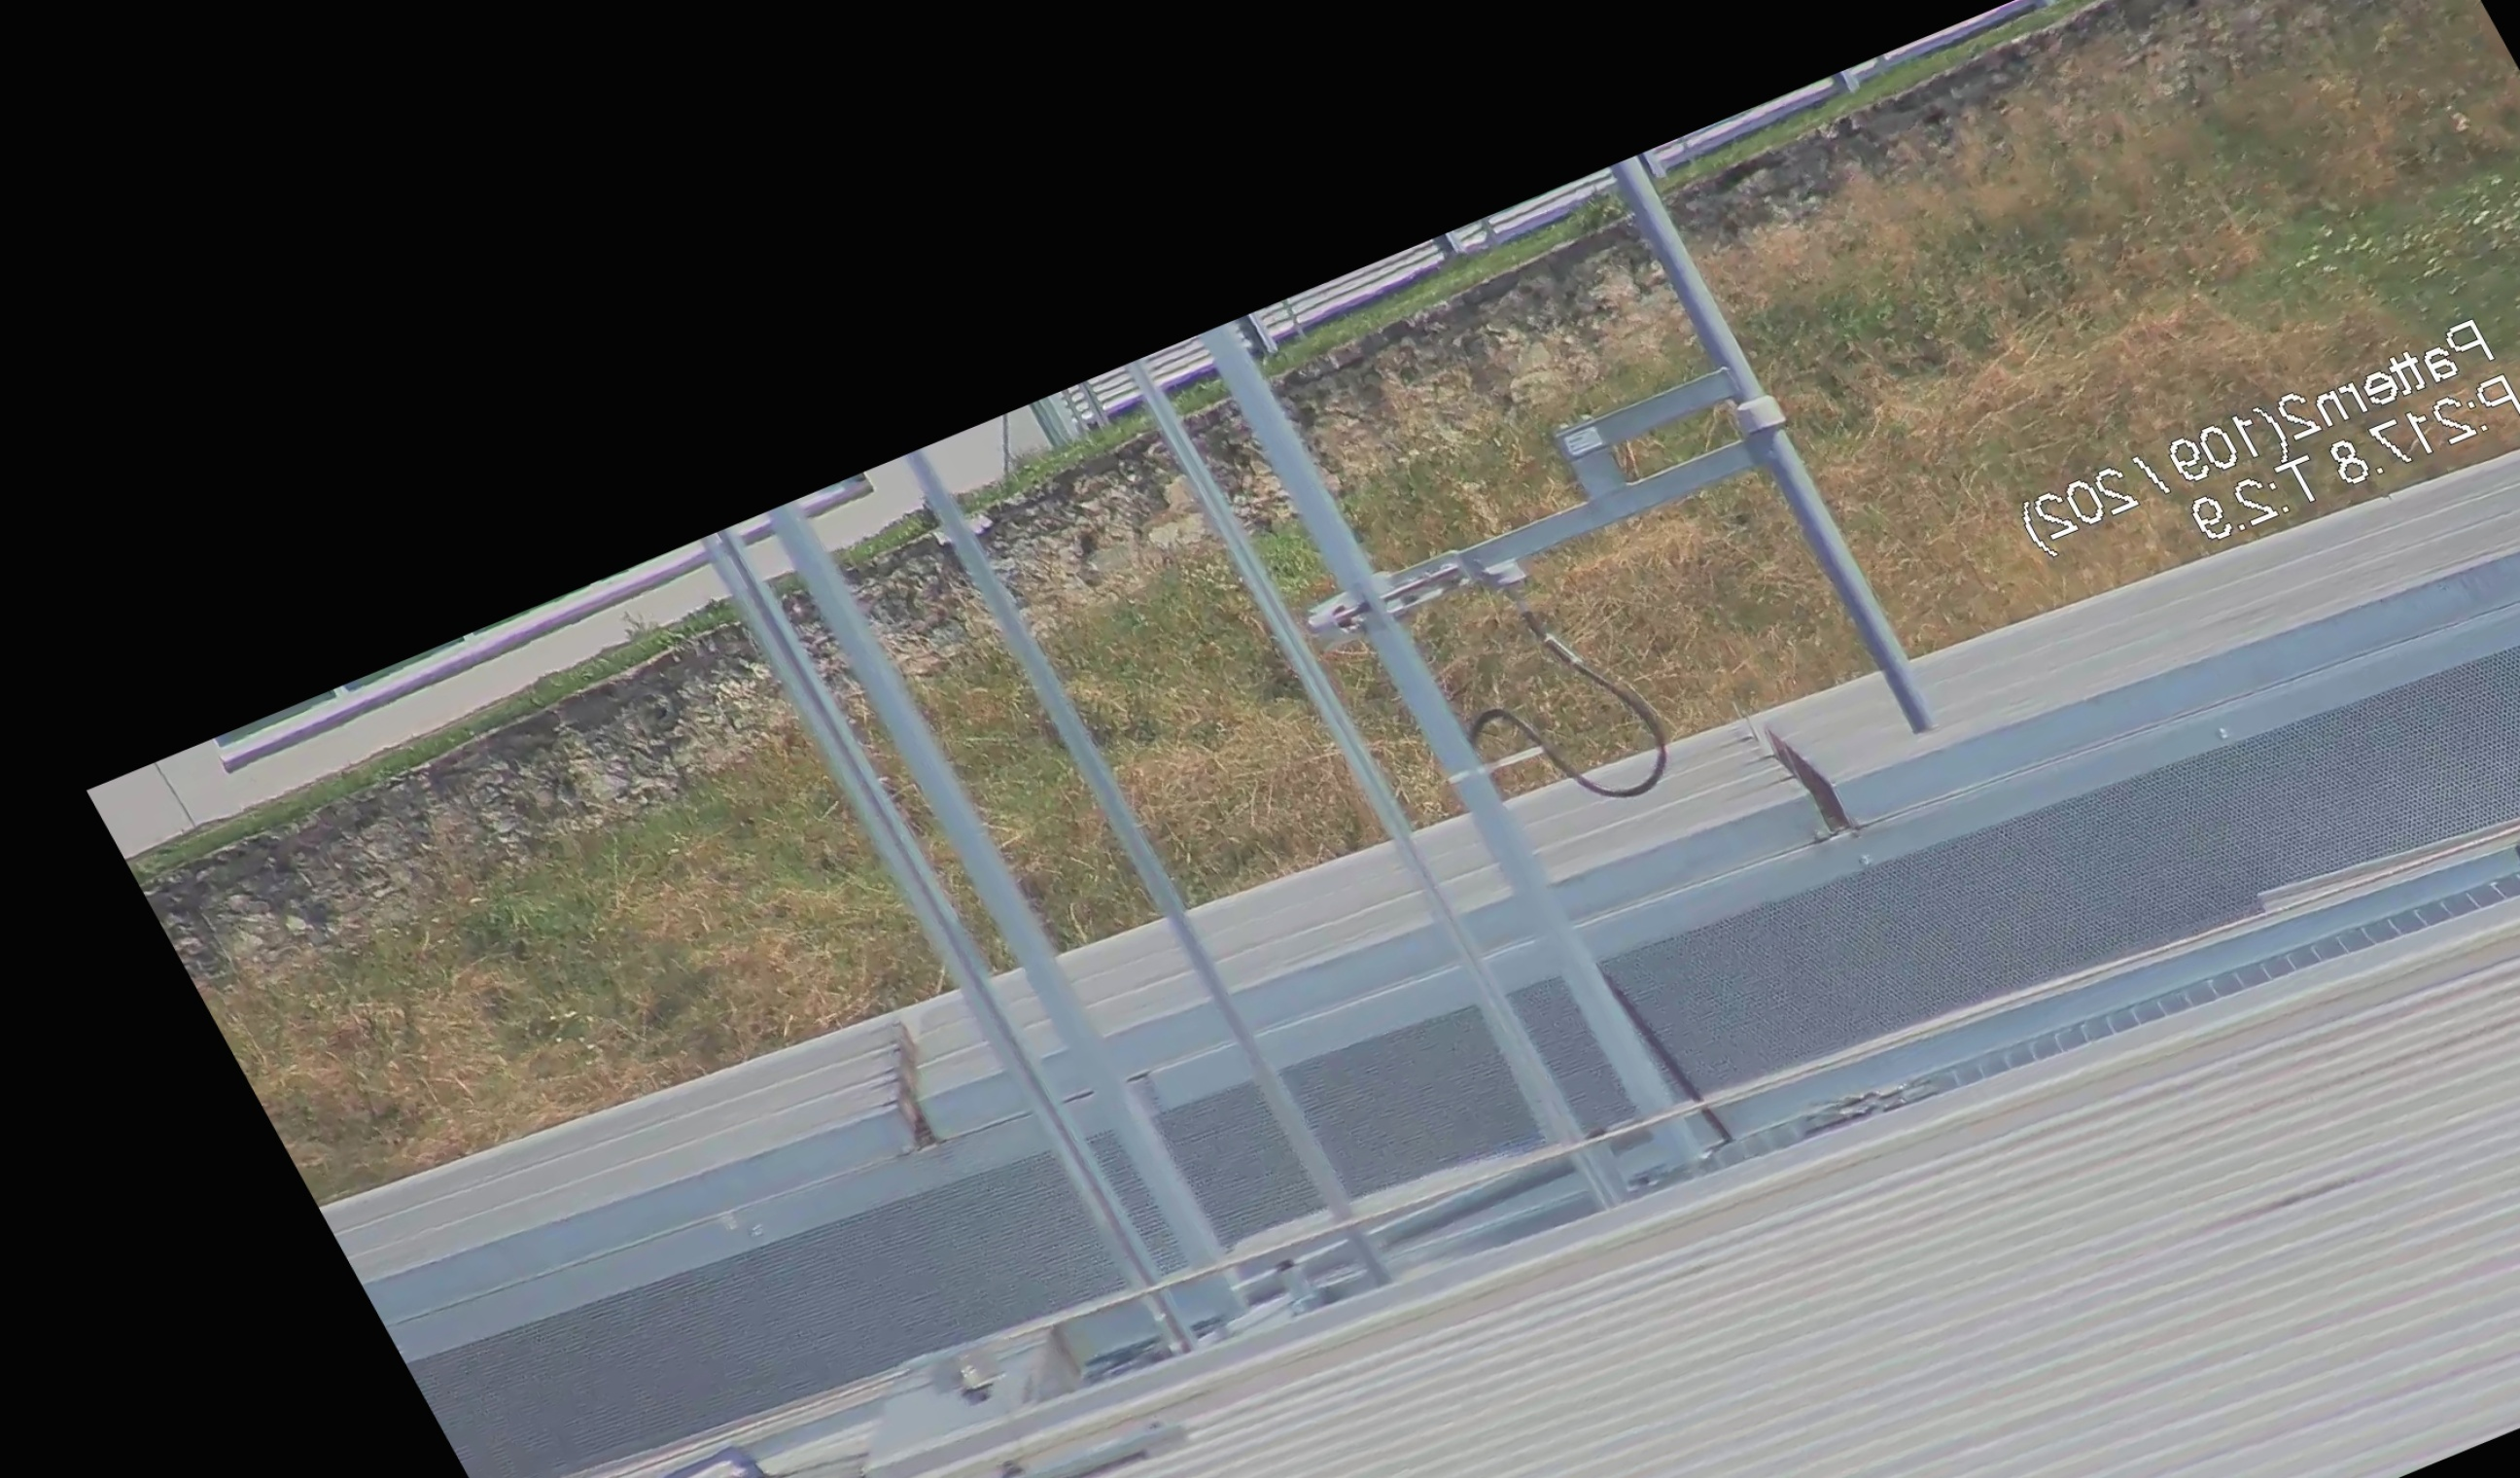Other: (1741, 697, 1875, 846)
